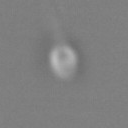normal: (42, 1, 76, 43)
